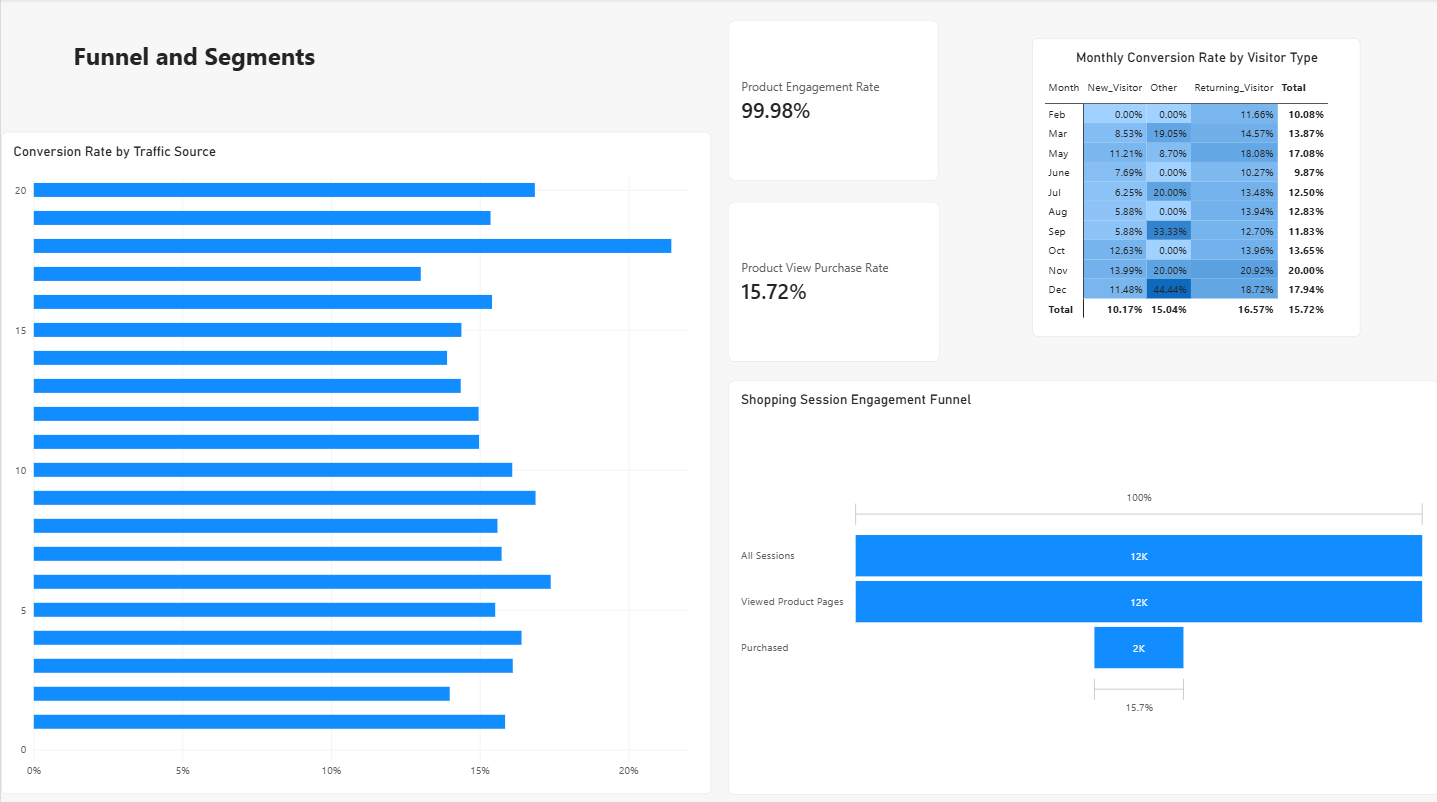

The page's visual inventory and layout, read from the dashboard file:
{"tool":"powerbi","page":{"name":"Funnel and Segments","canvas":[1920,1080],"ordinal":1},"visuals":[{"type":"clusteredBarChart","title":"Conversion Rate by Traffic Source","fields":{"Category":["v_sessions_enriched.TrafficType"],"Y":["v_sessions_enriched.Conversion Rate"]},"box":[0,179.1,948.9,885.1],"z":0},{"type":"pivotTable","title":"Monthly Conversion Rate by Visitor Type","fields":{"Columns":["v_sessions_enriched.VisitorType"],"Rows":["v_sessions_enriched.Month"],"Values":["v_sessions_enriched.Conversion Rate"]},"box":[1377,53.5,438.4,399.3],"z":1000},{"type":"funnel","title":"Shopping Session Engagement Funnel","fields":{"Category":["FunnelStages.Stage"],"Y":["FunnelStages.Funnel Stage Count"]},"box":[971.5,510.5,948.9,553.7],"z":2000},{"type":"cardVisual","fields":{"Data":["FunnelStages.Product Engagement Rate"]},"box":[971.5,30.9,282,214.1],"z":3000},{"type":"cardVisual","fields":{"Data":["FunnelStages.Product View Purchase Rate"]},"box":[971.5,271.7,282,214],"z":4000},{"type":"textbox","box":[10.3,0,496.1,137.9],"z":5000}]}

Visuals, with their boxes in screenshot pixels (x1, y1, x2, y2), scaled from the page's 1920x1080 canvas onto the 1437x802 screenshot:
"Conversion Rate by Traffic Source" clusteredBarChart: locate(0, 133, 710, 790)
"Monthly Conversion Rate by Visitor Type" pivotTable: locate(1031, 40, 1359, 336)
"Shopping Session Engagement Funnel" funnel: locate(727, 379, 1436, 790)
cardVisual - FunnelStages.Product Engagement Rate: locate(727, 23, 938, 182)
cardVisual - FunnelStages.Product View Purchase Rate: locate(727, 202, 938, 361)
textbox: locate(8, 0, 379, 102)
